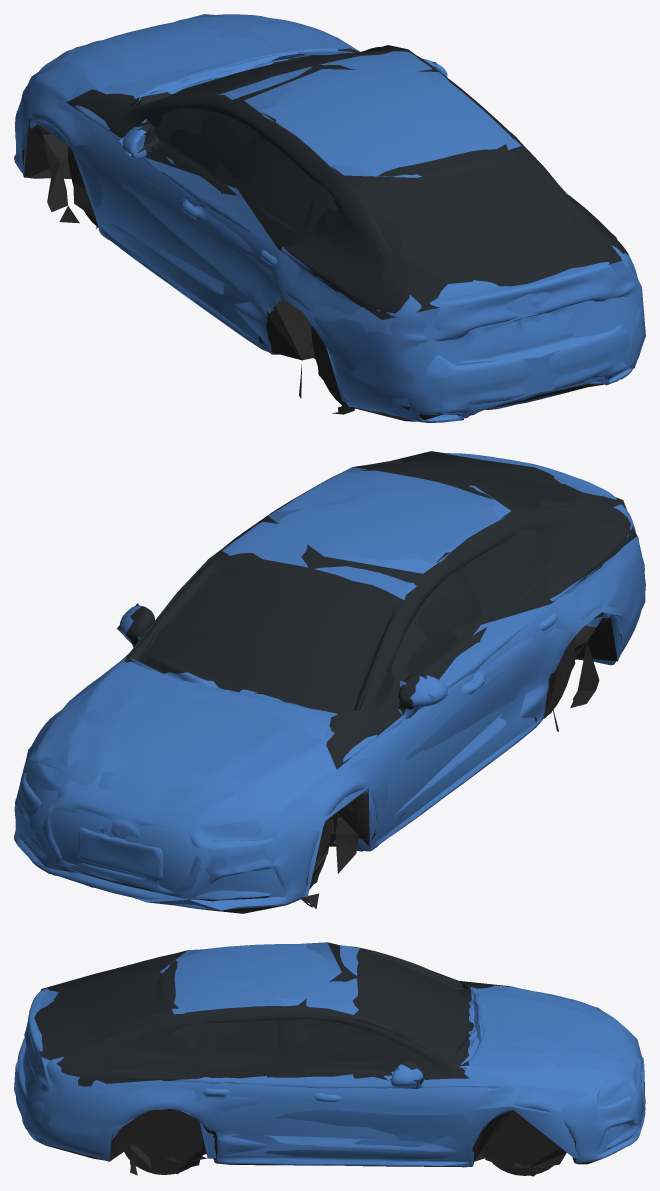
Rendered from audi-s5.glb.
3 renders of one model, top to bottom at view 1: azimuth 30°, elevation 25°; view 2: azimuth 150°, elevation 25°; view 3: azimuth 270°, elevation 25°, orthographic. The views are drawn at different scales.
Visible parts, largest first — view 1: body, far; view 2: body, far; view 3: body, far.
Boxes of the visible parts, x1,y1,x2,y2 form: body: (14,14,643,422); far: (16,14,645,419); body: (14,453,645,913); far: (15,451,645,910); body: (16,944,645,1175); far: (14,942,645,1176).
Bounding box in the file's own units: 2.05 × 1.39 × 4.74.
